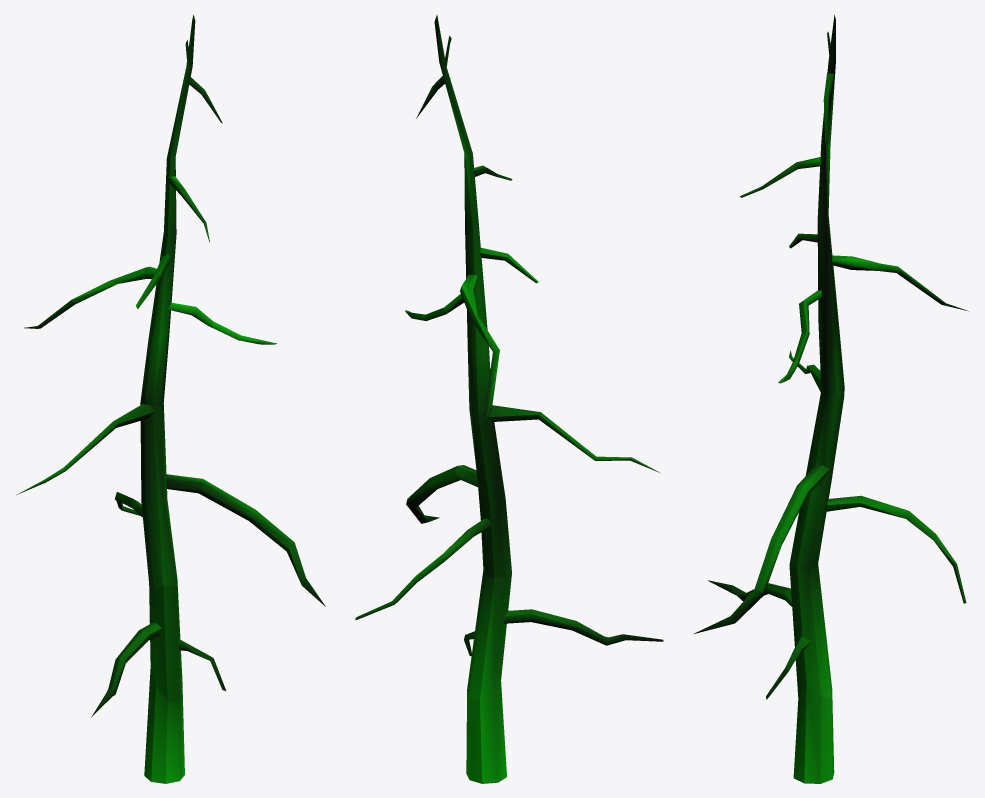
The model's file is SM_Collision_PineSnowCover01.fbx.
3 views of the same model, side by side, from view 1: azimuth 30°, elevation 25°; view 2: azimuth 150°, elevation 25°; view 3: azimuth 270°, elevation 25° (orthographic). The views are drawn at different scales.
Visible parts, largest first — view 1: SM_Collision_PineSnowCover01; view 2: SM_Collision_PineSnowCover01; view 3: SM_Collision_PineSnowCover01.
Boxes of the visible parts, <box> form: SM_Collision_PineSnowCover01: <box>16,15,325,783</box>; SM_Collision_PineSnowCover01: <box>355,14,663,783</box>; SM_Collision_PineSnowCover01: <box>693,14,968,783</box>.
Bounding box in the file's own units: 577 × 1549 × 501.
